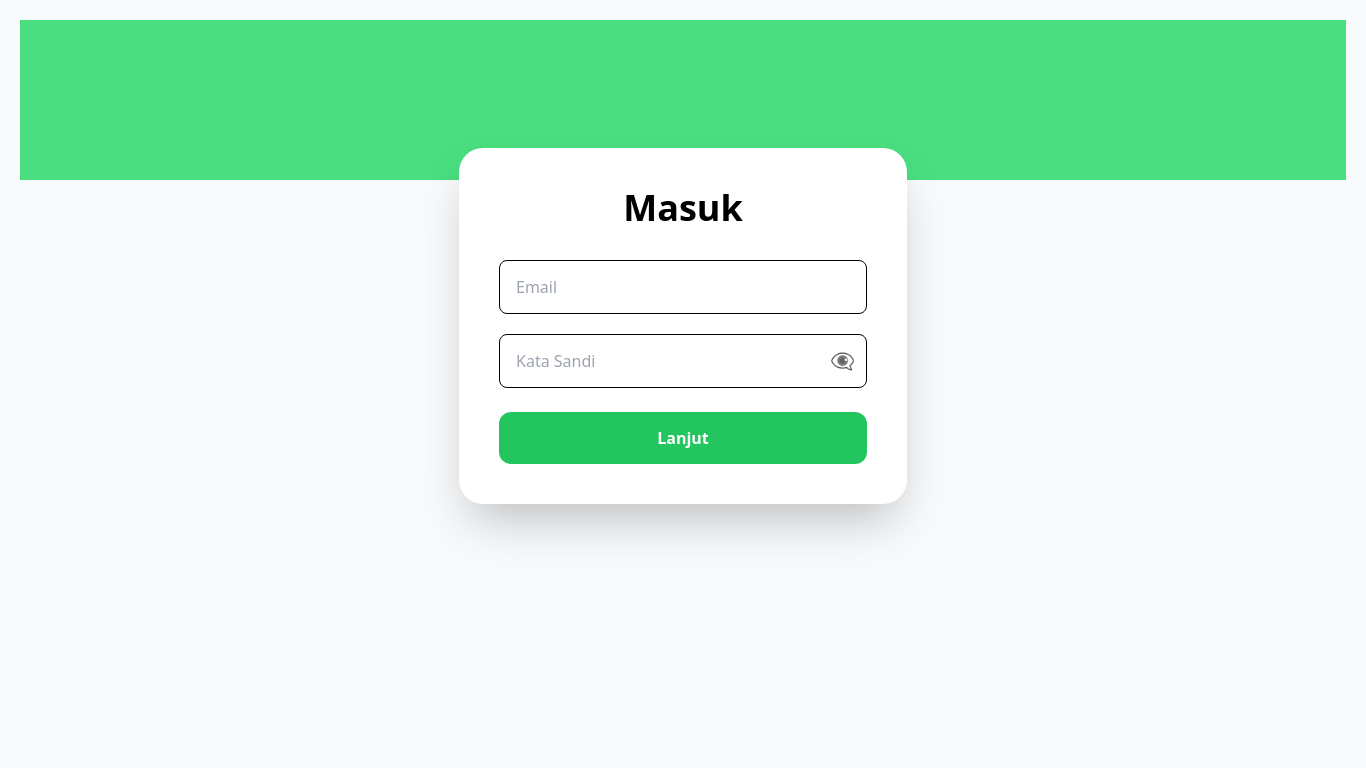
it: Login Component › should disable submit button while loading
Step 1. Type "test@example.com" into the field with placeholder "Email" → (683, 287), box [499,260,867,314]
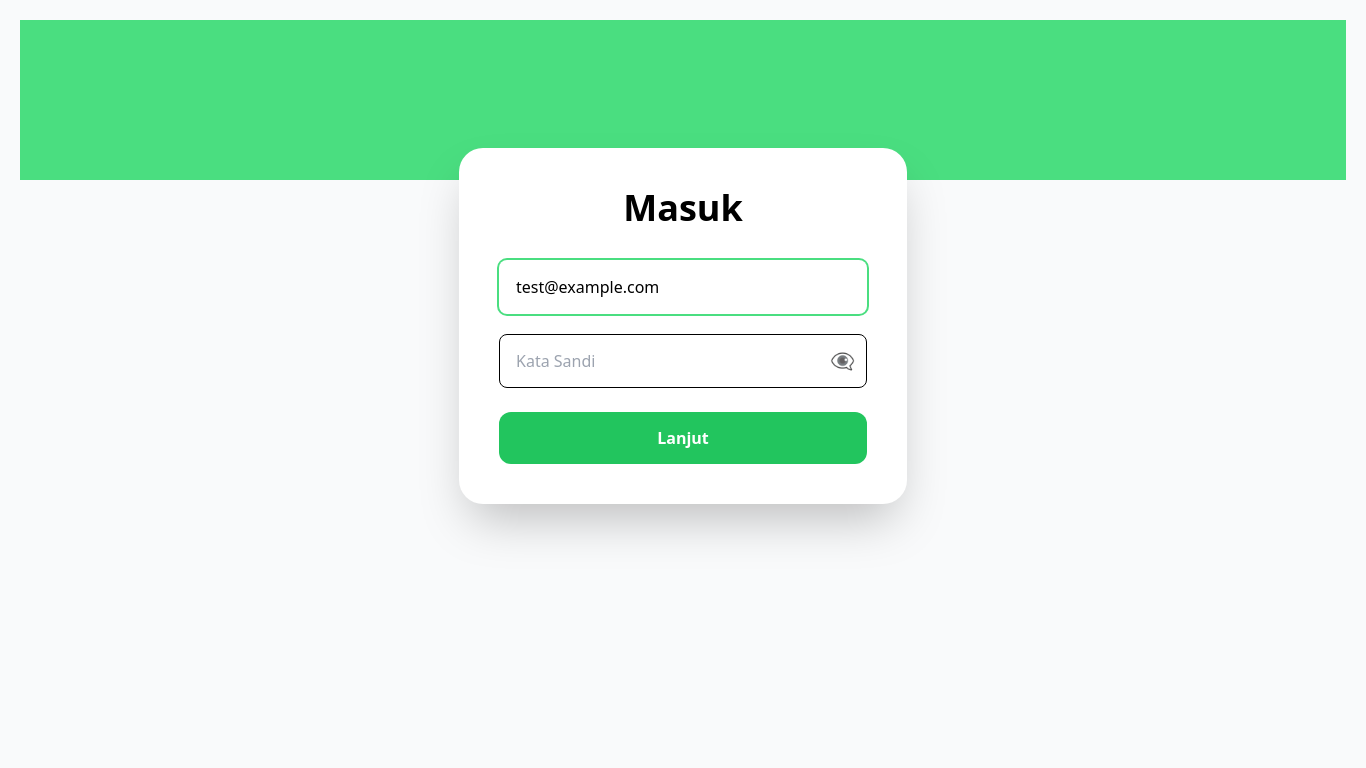
Step 2. Type "password123" into the password field with placeholder "Kata Sandi" → (683, 361), box [499,334,867,388]
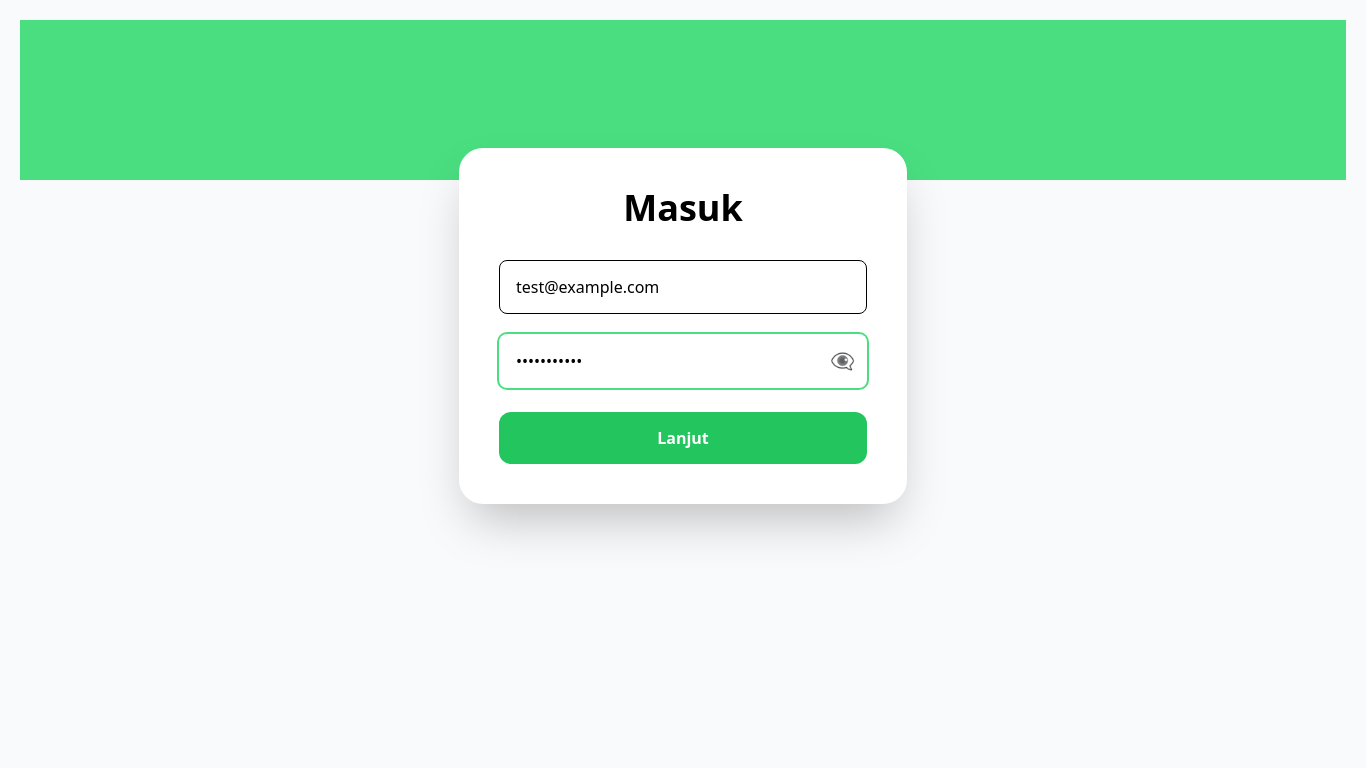
Step 3. Click the button "Lanjut" → (683, 438), box [499,412,867,464]
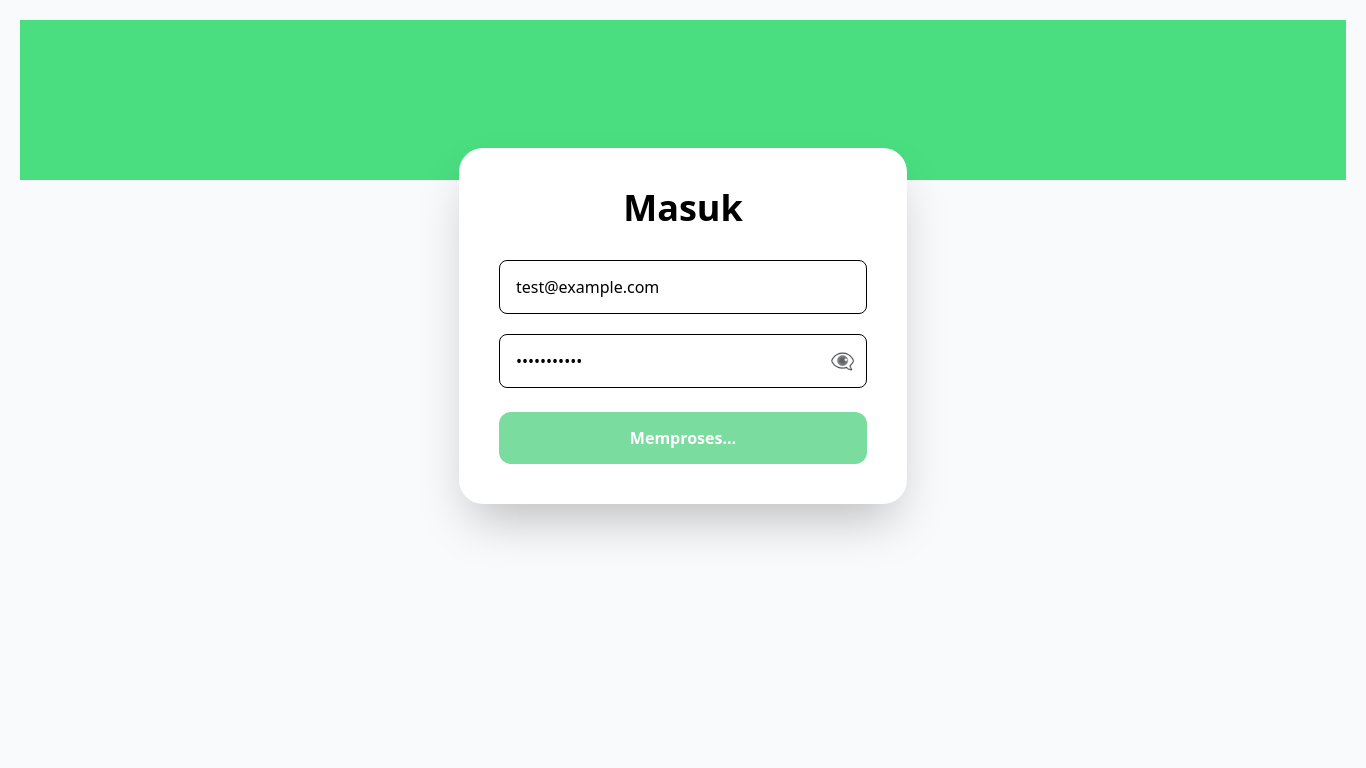
Expected: the button "Memproses..." is disabled, [499,412,867,464]
